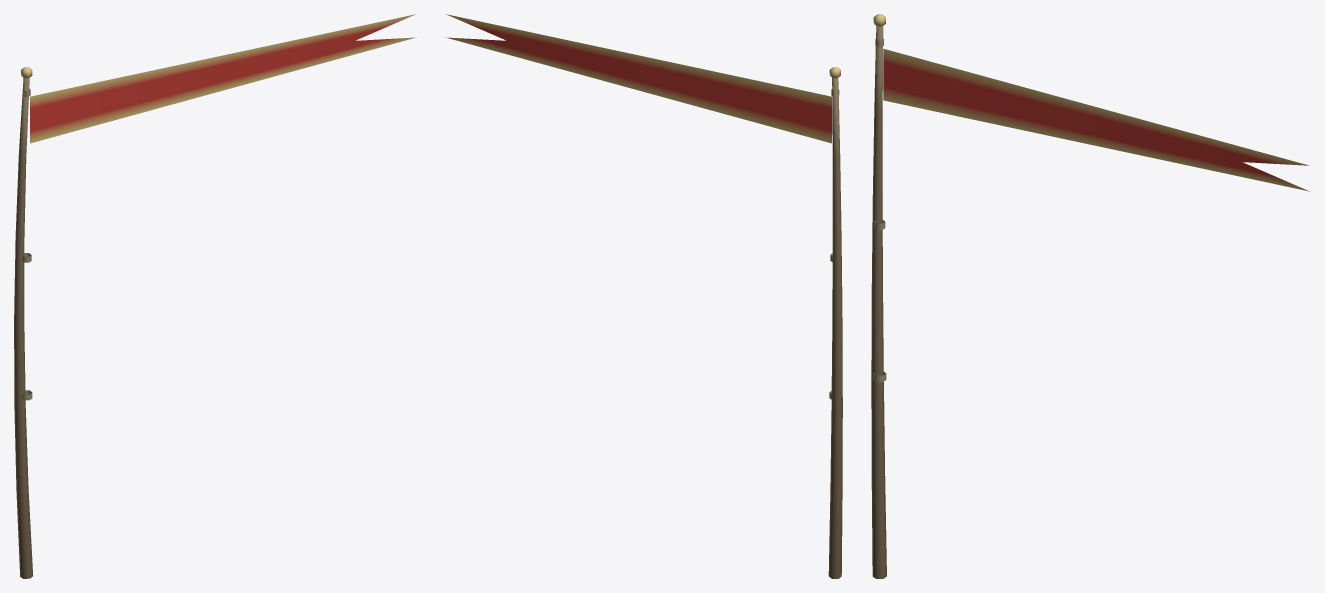
Rendered from pennant_red.glb.
The picture shows the model from 3 angles, left to right: view 1: azimuth 30°, elevation 25°; view 2: azimuth 150°, elevation 25°; view 3: azimuth 330°, elevation 25°; orthographic projection. The views are drawn at different scales.
Parts seen in each view (by area): view 1: pennant_red; view 2: pennant_red; view 3: pennant_red.
Part boxes in pixels (<box>): pennant_red: <box>14,14,416,578</box>; pennant_red: <box>445,14,842,578</box>; pennant_red: <box>871,14,1309,578</box>.
Bounding box in the file's own units: 8.45 × 10.33 × 0.3112.
